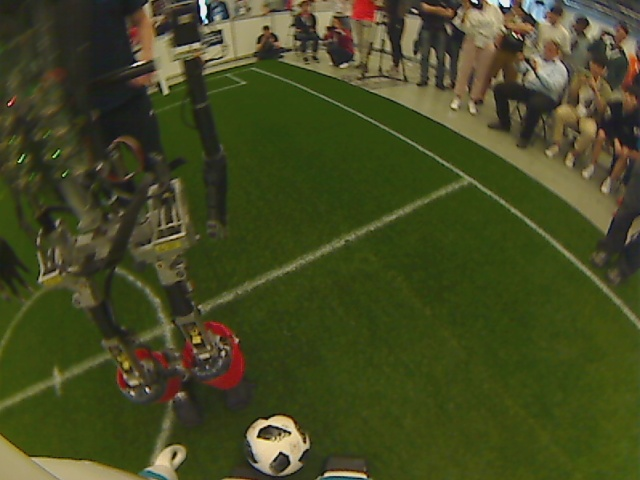ball: (241, 413, 310, 475)
